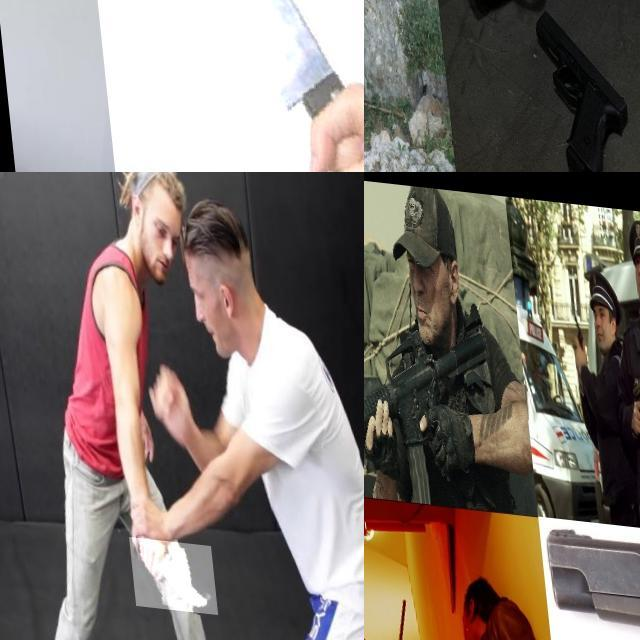-: (71, 0, 364, 172), (120, 531, 208, 607)
gun-knife-thesis - v11 Yolov5 augmented: (364, 292, 502, 505), (528, 0, 629, 172), (616, 338, 640, 454), (364, 438, 408, 490), (364, 31, 383, 143), (364, 0, 406, 32)
